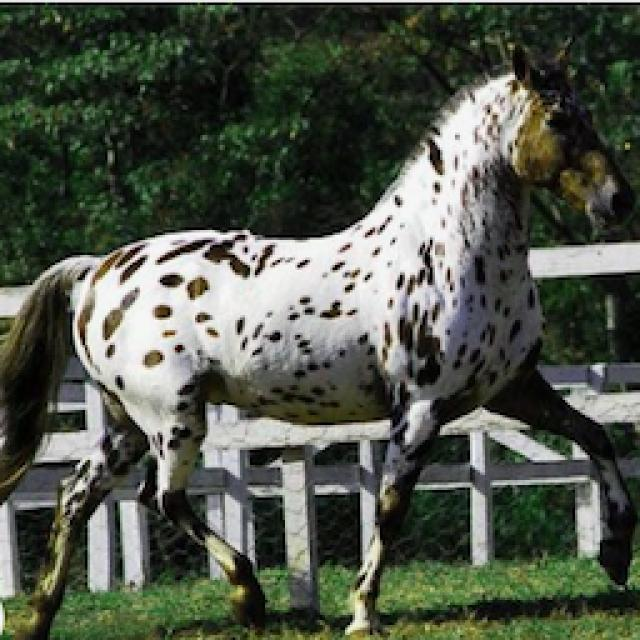Horse: (2, 35, 640, 638)
